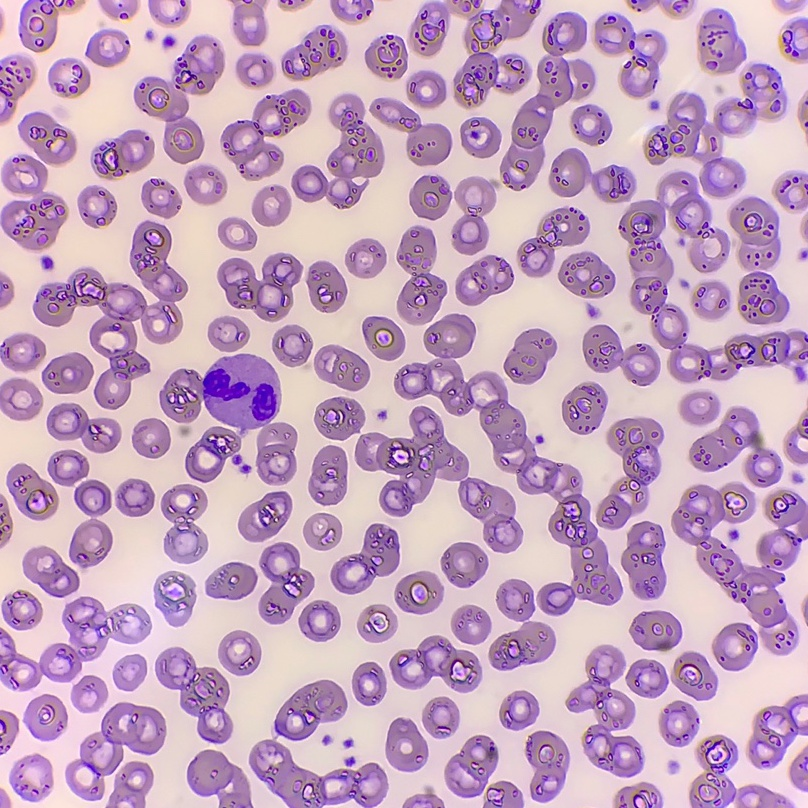RBC: (394, 314, 621, 614), (620, 172, 807, 382), (34, 222, 186, 408), (672, 482, 796, 654), (644, 64, 785, 197), (160, 354, 296, 484), (500, 13, 594, 189), (410, 0, 538, 107), (0, 597, 150, 688), (355, 407, 468, 515), (134, 37, 224, 162), (292, 94, 383, 208), (66, 702, 165, 799), (567, 645, 640, 775), (249, 739, 387, 807), (221, 90, 310, 180), (155, 647, 232, 742), (689, 735, 790, 807), (596, 418, 662, 528), (689, 407, 779, 486), (1, 155, 67, 250), (594, 18, 665, 97), (218, 254, 301, 320), (371, 99, 451, 165), (390, 636, 481, 691), (517, 208, 588, 276), (397, 226, 446, 324), (331, 524, 398, 593), (583, 325, 659, 385), (459, 478, 521, 551), (549, 149, 633, 202), (259, 543, 314, 623), (275, 680, 346, 739), (756, 490, 807, 569), (187, 750, 251, 807), (161, 484, 207, 562), (47, 403, 120, 452), (282, 25, 346, 80), (729, 198, 778, 269), (452, 177, 495, 254), (621, 522, 664, 598), (445, 735, 497, 796), (489, 622, 554, 669), (91, 130, 153, 178), (185, 427, 240, 481), (19, 113, 76, 164), (526, 731, 568, 800), (698, 11, 743, 74), (748, 706, 796, 765), (7, 464, 57, 519), (456, 255, 512, 304), (505, 329, 555, 383), (23, 547, 78, 596), (738, 272, 787, 324), (239, 492, 291, 541), (559, 252, 614, 297), (314, 345, 369, 390), (0, 55, 35, 122), (562, 382, 606, 433), (309, 446, 346, 504), (385, 719, 427, 770), (671, 652, 716, 699), (315, 397, 364, 439), (108, 761, 152, 807), (42, 353, 92, 393), (630, 611, 680, 651), (441, 542, 486, 586), (395, 571, 442, 613), (713, 623, 755, 670), (307, 261, 346, 311), (19, 2, 58, 51), (70, 520, 111, 566), (206, 562, 256, 599), (218, 631, 260, 674), (363, 317, 404, 359), (0, 378, 42, 419), (410, 176, 450, 219), (27, 695, 67, 737), (0, 333, 45, 370), (299, 600, 339, 641), (13, 755, 52, 797), (659, 701, 696, 745), (365, 38, 406, 77), (272, 325, 311, 365), (155, 571, 195, 610), (345, 239, 386, 277), (49, 59, 89, 97), (78, 186, 116, 226), (185, 166, 226, 203), (233, 0, 266, 45), (571, 106, 610, 144), (461, 118, 499, 157), (252, 186, 290, 225), (2, 591, 41, 629), (451, 605, 490, 643), (87, 30, 128, 66), (115, 479, 154, 516), (627, 660, 666, 697), (422, 697, 458, 737), (142, 179, 180, 216), (358, 604, 396, 641), (500, 691, 538, 728), (406, 71, 445, 107), (48, 450, 88, 485), (497, 580, 532, 620), (352, 662, 385, 704), (133, 419, 169, 457), (208, 317, 248, 351), (691, 282, 728, 318), (304, 513, 341, 549), (75, 480, 110, 515), (680, 391, 717, 424), (218, 218, 256, 250), (773, 174, 807, 209), (236, 54, 273, 86), (113, 655, 146, 690), (73, 675, 106, 710), (780, 21, 807, 62), (614, 783, 660, 807), (484, 781, 522, 807), (639, 0, 693, 18), (789, 749, 807, 788), (99, 0, 137, 18), (0, 710, 18, 748), (0, 497, 12, 545), (416, 788, 443, 807), (786, 443, 807, 463), (0, 274, 13, 306), (798, 96, 807, 124), (795, 413, 807, 434), (330, 0, 344, 16), (149, 0, 160, 16), (787, 0, 802, 11), (0, 791, 10, 807), (359, 0, 372, 12), (61, 0, 75, 11), (179, 1, 189, 16), (42, 257, 52, 269), (798, 694, 807, 705), (799, 722, 807, 734), (163, 39, 172, 47), (283, 1, 291, 9), (180, 426, 188, 434), (803, 600, 807, 615), (294, 0, 305, 5), (802, 220, 807, 231), (404, 802, 412, 807)
